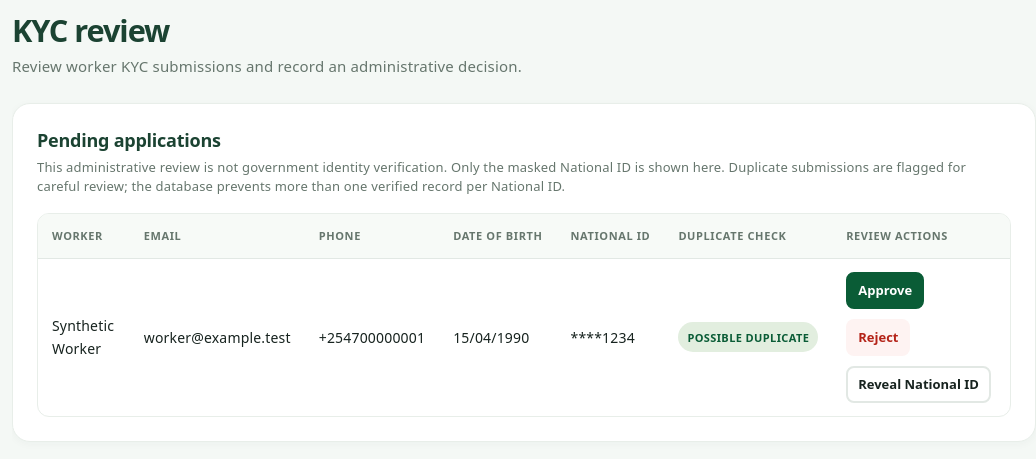
Scenario: Admin KYC review › rejects a pending application and refreshes the list
Click the button "Reject" at (878, 337), box [846,319,910,356]
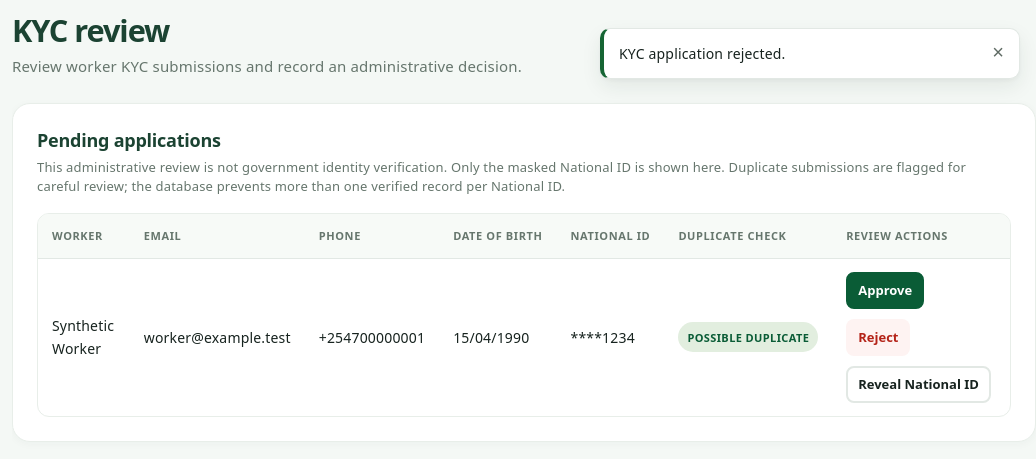
Now the message shows "KYC application rejected.", box [619,44,786,63]
